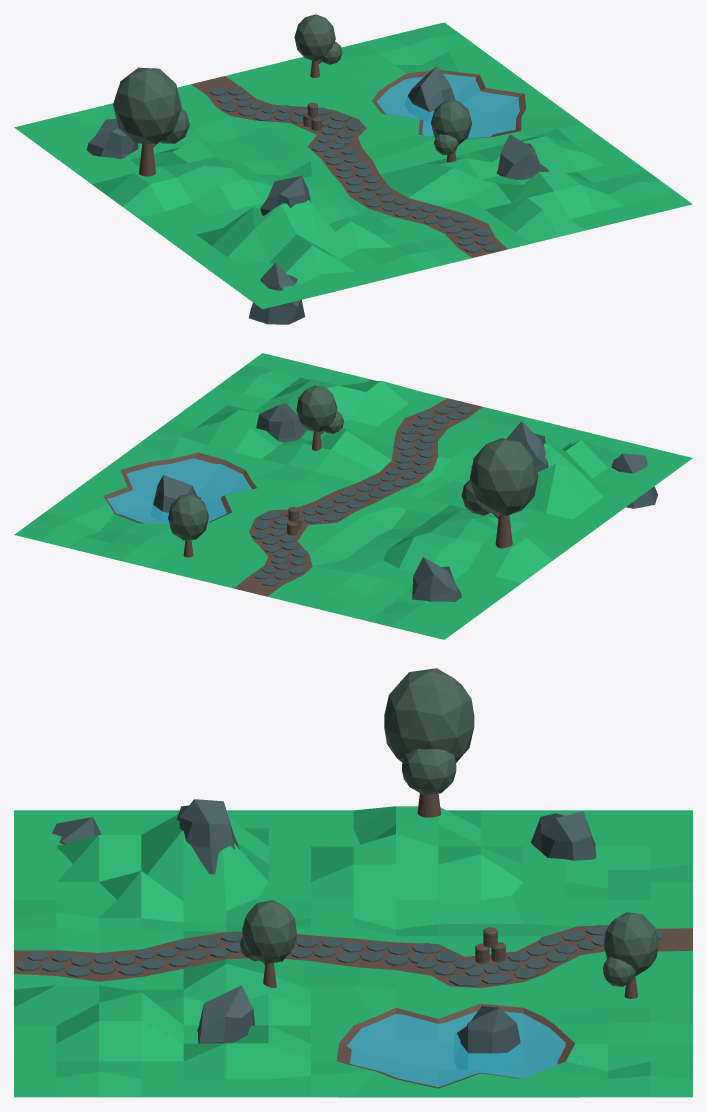
The model's file is Map.fbx.
3 views of the same model, one above another, from view 1: azimuth 30°, elevation 25°; view 2: azimuth 150°, elevation 25°; view 3: azimuth 270°, elevation 25° (orthographic). The views are drawn at different scales.
Parts seen in each view (by area): view 1: Plane, Cube.002, Plane.001, Plane.002, Icosphere.001, Plane.003, Icosphere.002, Icosphere.003, Cube.005, Cube, Cube.004, Cube.001 (+2 smaller); view 2: Plane, Cube.002, Plane.002, Plane.001, Plane.003, Icosphere.001, Icosphere.003, Cube.001, Icosphere.002, Cube.004, Cube, Cube.005 (+2 smaller); view 3: Plane, Plane.002, Plane.003, Cube.002, Icosphere.001, Plane.001, Cube, Icosphere.002, Icosphere.003, Cube.003, Cube.001, Cube.004 (+1 smaller).
Part boxes in pixels (x1,y1,x2,y2): Plane: (14,22,692,309); Cube.002: (209,87,500,252); Plane.001: (191,76,507,257); Plane.002: (372,70,526,139); Icosphere.001: (113,67,189,144); Plane.003: (376,67,519,138); Icosphere.002: (294,14,342,64); Icosphere.003: (431,100,471,154); Cube.005: (249,262,305,324); Cube: (405,66,455,121); Cube.004: (496,134,549,179); Cube.001: (87,119,138,158); Plane: (14,353,692,639); Cube.002: (251,400,472,585); Plane.002: (103,452,256,523); Plane.001: (234,398,482,596); Plane.003: (107,458,251,524); Icosphere.001: (461,438,538,516); Icosphere.003: (296,385,343,433); Cube.001: (412,557,461,601); Icosphere.002: (168,494,208,540); Cube.004: (256,403,306,442); Cube: (150,475,201,522); Cube.005: (611,453,657,508); Plane: (14,806,692,1097); Plane.002: (336,1003,575,1088); Plane.003: (338,1011,580,1097); Cube.002: (16,924,662,986); Icosphere.001: (384,668,474,795); Plane.001: (14,925,692,987); Cube: (453,1006,524,1073); Icosphere.002: (603,912,658,986); Icosphere.003: (240,900,296,964); Cube.003: (177,799,239,874); Cube.001: (531,811,596,860); Cube.004: (197,985,254,1043).
Size of the model in its own units: 2800 by 939 by 2800.
